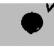correct: (20, 10, 44, 35)
